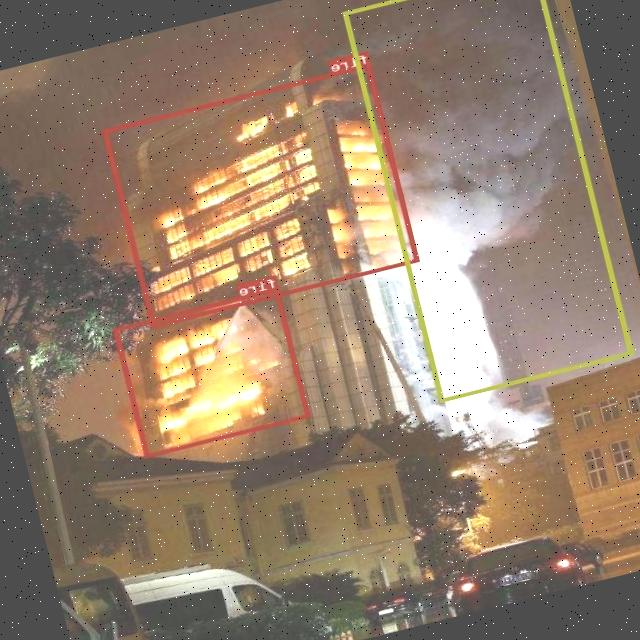fire: (104, 62, 420, 327), (114, 286, 311, 456)
smoke: (343, 0, 634, 400)
